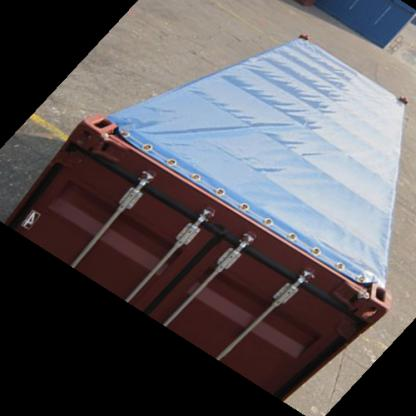Damage: (71, 132, 121, 167), (192, 206, 235, 238)
